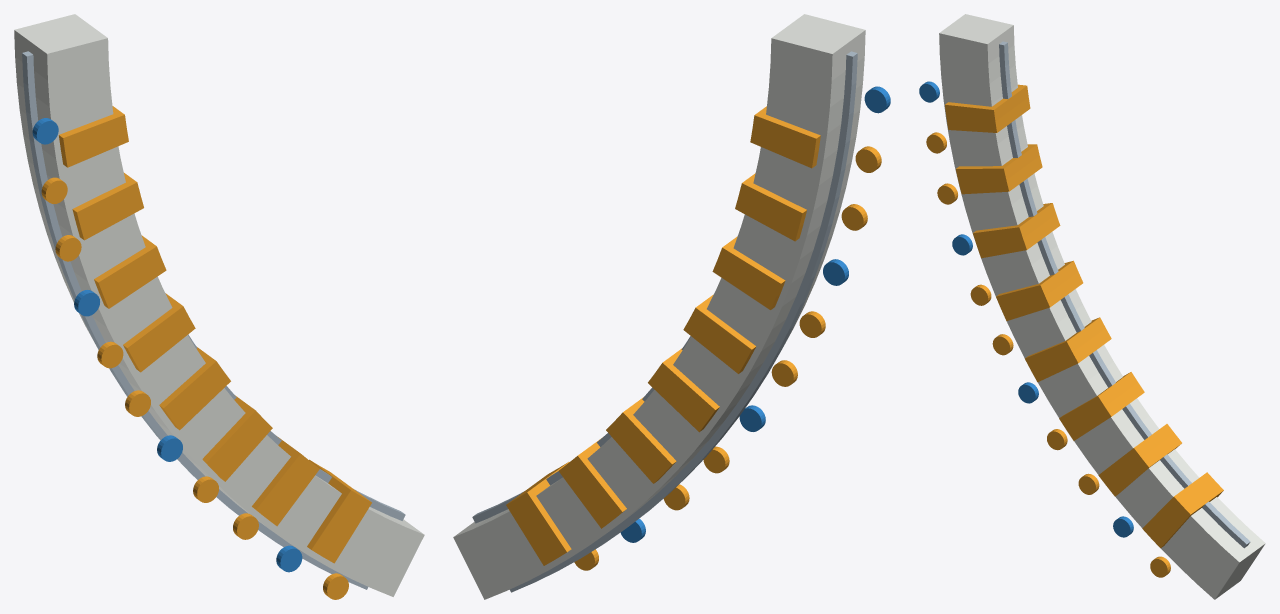
The model's file is 08_L87_HabitatSegmentD.fbx.
3 views of the same model, side by side, from view 1: azimuth 30°, elevation 25°; view 2: azimuth 150°, elevation 25°; view 3: azimuth 330°, elevation 25° (orthographic). The views are drawn at different scales.
Parts seen in each view (by area): view 1: L87_HabitatSegmentD_Part_0000, L87_HabitatSegmentD_Part_0003, L87_HabitatSegmentD_Part_0001, L87_HabitatSegmentD_Part_0002; view 2: L87_HabitatSegmentD_Part_0000, L87_HabitatSegmentD_Part_0003, L87_HabitatSegmentD_Part_0001, L87_HabitatSegmentD_Part_0002; view 3: L87_HabitatSegmentD_Part_0000, L87_HabitatSegmentD_Part_0003, L87_HabitatSegmentD_Part_0001, L87_HabitatSegmentD_Part_0002.
Boxes of the visible parts, x1,y1,x2,y2 form: L87_HabitatSegmentD_Part_0000: (14, 14, 424, 596); L87_HabitatSegmentD_Part_0003: (41, 106, 371, 599); L87_HabitatSegmentD_Part_0001: (22, 51, 405, 589); L87_HabitatSegmentD_Part_0002: (32, 118, 302, 572); L87_HabitatSegmentD_Part_0000: (453, 14, 865, 599); L87_HabitatSegmentD_Part_0003: (506, 106, 881, 570); L87_HabitatSegmentD_Part_0001: (472, 51, 857, 592); L87_HabitatSegmentD_Part_0002: (620, 86, 890, 542); L87_HabitatSegmentD_Part_0000: (939, 14, 1265, 599); L87_HabitatSegmentD_Part_0003: (926, 84, 1223, 577); L87_HabitatSegmentD_Part_0001: (999, 41, 1250, 548); L87_HabitatSegmentD_Part_0002: (919, 81, 1133, 537).
Size of the model in its own units: 305 by 463 by 59.75.
